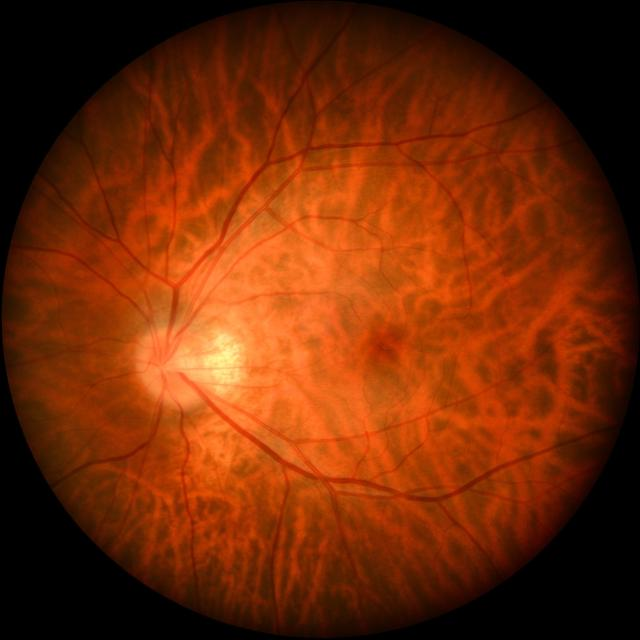OC: (156, 350, 183, 381)
OD: (132, 325, 209, 408)
